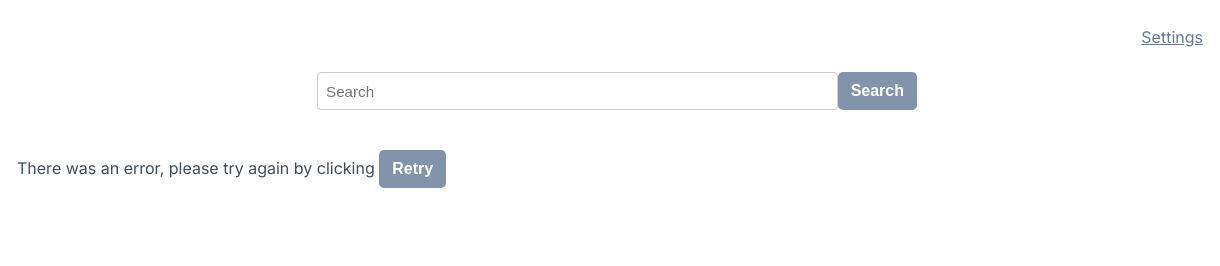
Test case: <App /> › navigates to settings
This screenshot has width=1220, height=266.
(page scrolled)
Click the link "Settings" at (1172, 37), box [1141,27,1203,47]
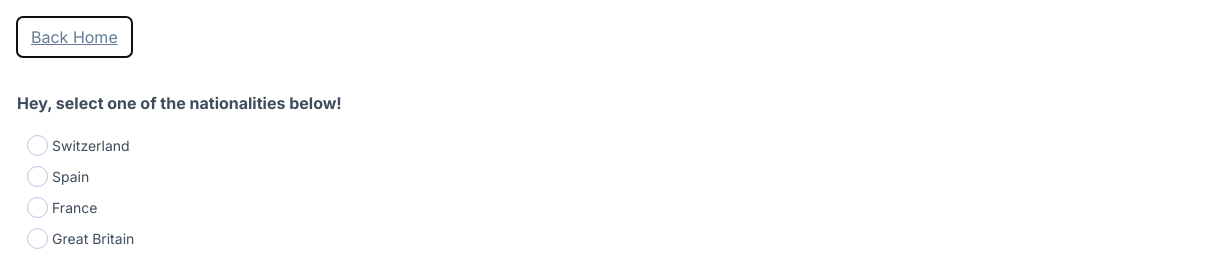
Expected: the number of radio buttons is 4, [27,134,48,156]; [27,166,48,186]; [27,196,48,218]; [27,228,48,248]
